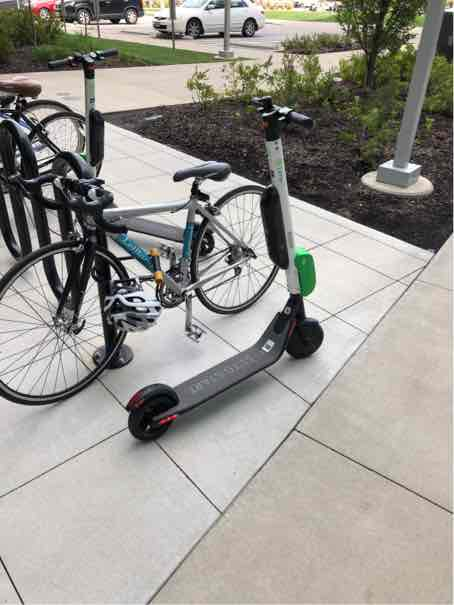scooter: (122, 81, 334, 450)
